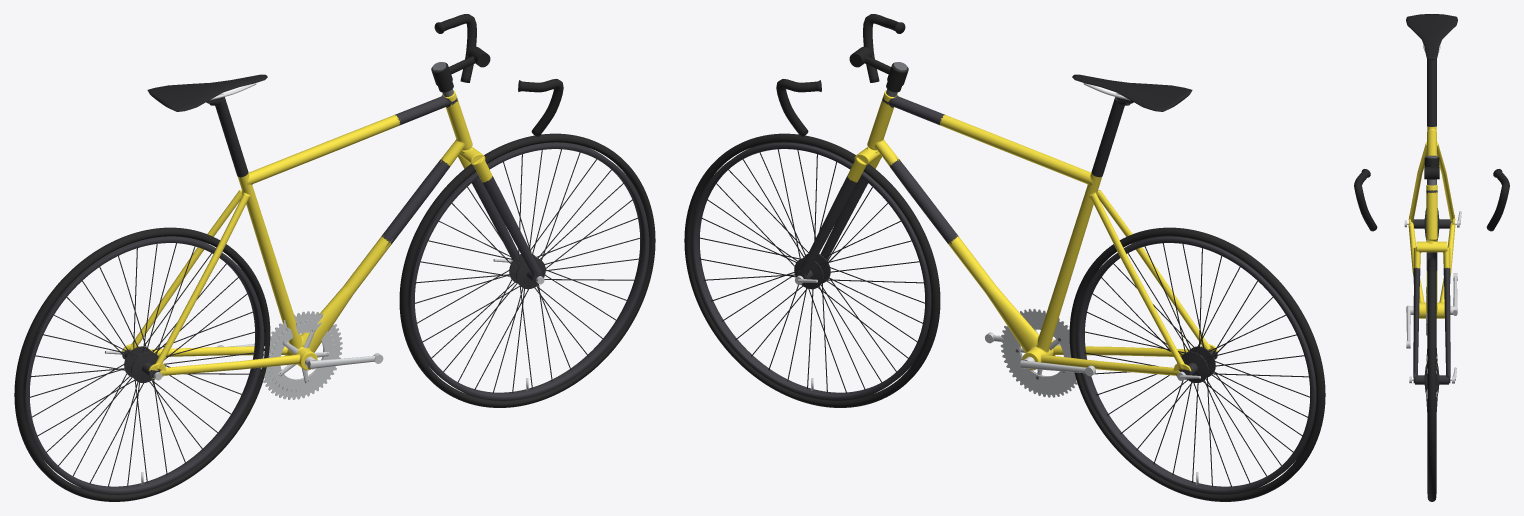
The model's file is bike_web.glb.
3 views of the same model, side by side, from view 1: azimuth 30°, elevation 25°; view 2: azimuth 150°, elevation 25°; view 3: azimuth 270°, elevation 25° (orthographic). The views are drawn at different scales.
Visible parts, largest first — view 1: frame, tyre_rear, tyre_front, rim_front, rim_rear, spokes_rear, spokes_front, chainrings, fork, saddle, dropbar, crank_arms (+4 smaller); view 2: frame, tyre_front, tyre_rear, rim_front, rim_rear, spokes_front, spokes_rear, fork, chainrings, saddle, dropbar, stem (+4 smaller); view 3: frame, tyre_front, fork, saddle, dropbar, seatpost, crank_arms, rim_front, stem, hub_rear, hub_front.
Part boxes in pixels (box(x1,y1,x2,y2)): frame: box(122, 90, 472, 379); tyre_rear: box(14, 227, 270, 501); tyre_front: box(399, 133, 655, 407); rim_front: box(408, 142, 649, 400); rim_rear: box(23, 236, 264, 494); spokes_rear: box(30, 243, 256, 486); spokes_front: box(415, 149, 641, 392); chainrings: box(260, 311, 342, 399); fork: box(458, 147, 542, 281); saddle: box(147, 74, 267, 111); dropbar: box(434, 14, 563, 136); crank_arms: box(217, 328, 383, 383); frame: box(867, 90, 1217, 379); tyre_front: box(684, 133, 940, 407); tyre_rear: box(1069, 227, 1325, 501); rim_front: box(690, 142, 931, 400); rim_rear: box(1075, 236, 1316, 494); spokes_front: box(698, 149, 924, 392); spokes_rear: box(1083, 243, 1309, 486); fork: box(797, 147, 881, 278); chainrings: box(1000, 308, 1077, 397); saddle: box(1072, 74, 1192, 111); dropbar: box(776, 14, 905, 136); stem: box(849, 46, 908, 96); frame: box(1408, 126, 1455, 318); tyre_front: box(1427, 258, 1436, 501); fork: box(1413, 241, 1450, 383); saddle: box(1406, 14, 1457, 59); dropbar: box(1354, 169, 1509, 231); seatpost: box(1427, 58, 1436, 126); crank_arms: box(1406, 273, 1457, 348); rim_front: box(1427, 266, 1436, 493); stem: box(1424, 155, 1439, 185); hub_rear: box(1412, 210, 1451, 237); hub_front: box(1413, 366, 1450, 393).
Size of the model in its own units: 1.68 by 0.9885 by 0.4264.
